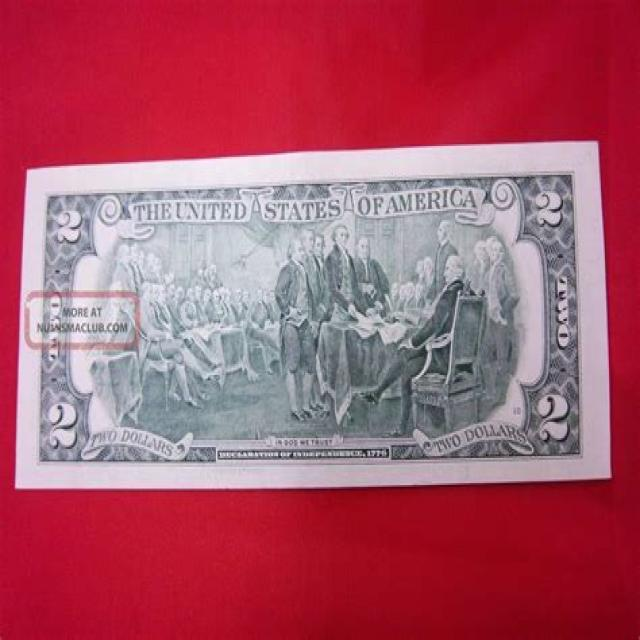Two: (25, 140, 608, 476)
